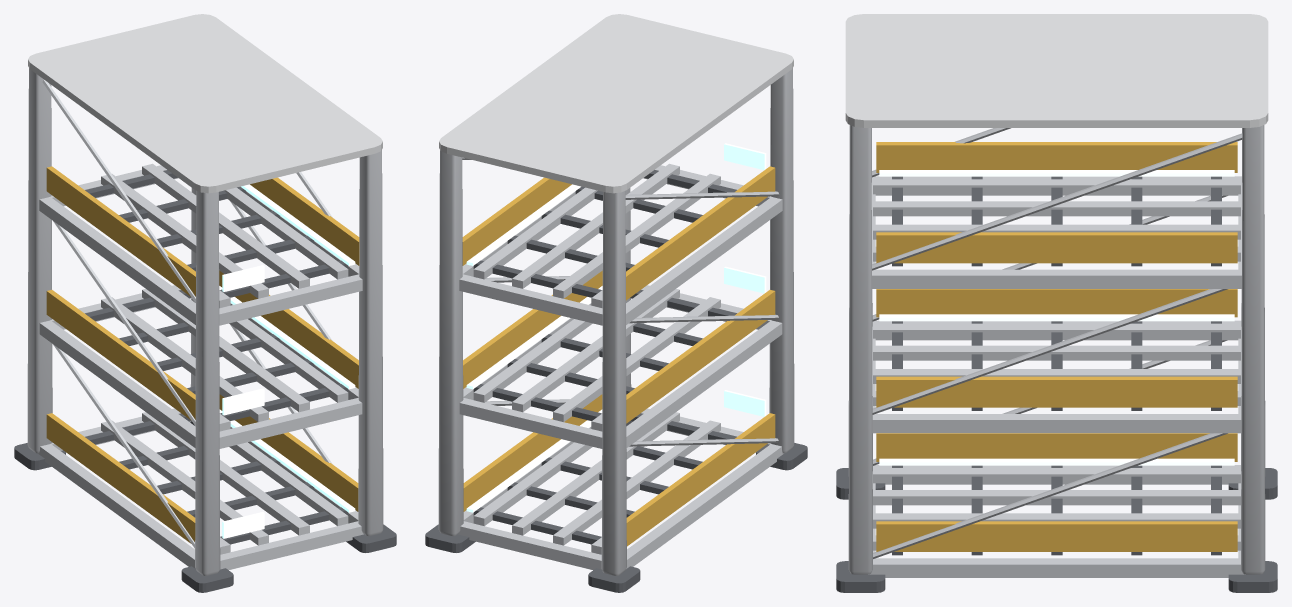
File: hover-transit-and-antigrav-fleet-parking-stack-frame-192a47ba__17118.glb
The picture shows the model from 3 angles, left to right: view 1: azimuth 30°, elevation 25°; view 2: azimuth 150°, elevation 25°; view 3: azimuth 270°, elevation 25°; orthographic projection. The views are drawn at different scales.
Visible parts, largest first — view 1: parking-stack-frame; view 2: parking-stack-frame; view 3: parking-stack-frame.
Part boxes in pixels (x1,y1,x2,y2): parking-stack-frame: (14,14,396,592); parking-stack-frame: (425,14,807,592); parking-stack-frame: (836,14,1277,592).
Size of the model in its own units: 4.4 by 8.44 by 7.2.
